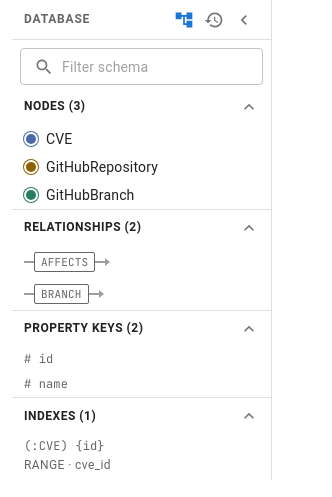
Test: QueryConsoleSchemaPanel filter › says so when nothing matches, and Escape clears the filter
Type "zzz" into the field labelled "Filter schema" at (162, 67), box [62, 48, 263, 85]
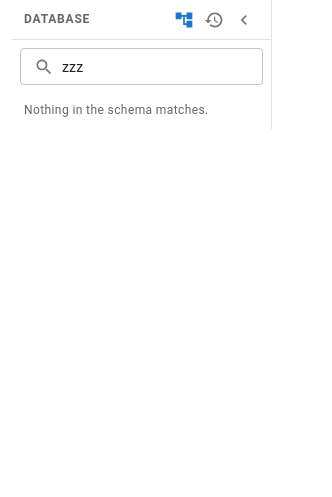
Expected: the text "Nothing in the schema matches." is shown, [24, 103, 209, 117]
Press Escape in the field named "Filter schema", box [62, 48, 263, 85]
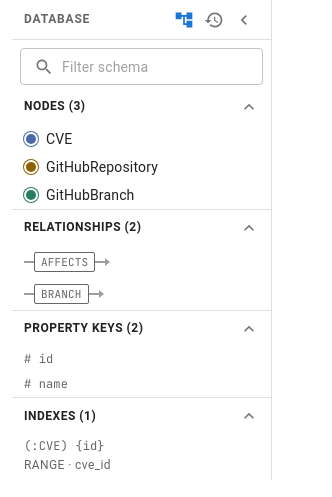
Expected: the text "NODES (3)" is shown, [24, 97, 86, 117]
